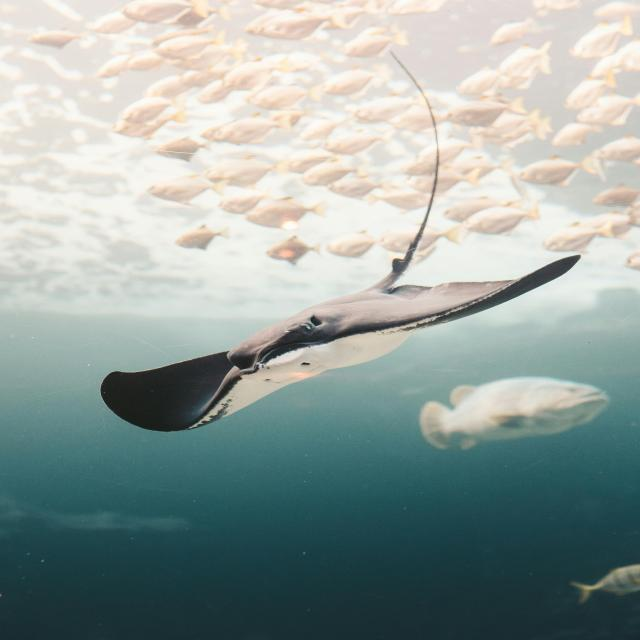stingray: (100, 53, 580, 431)
